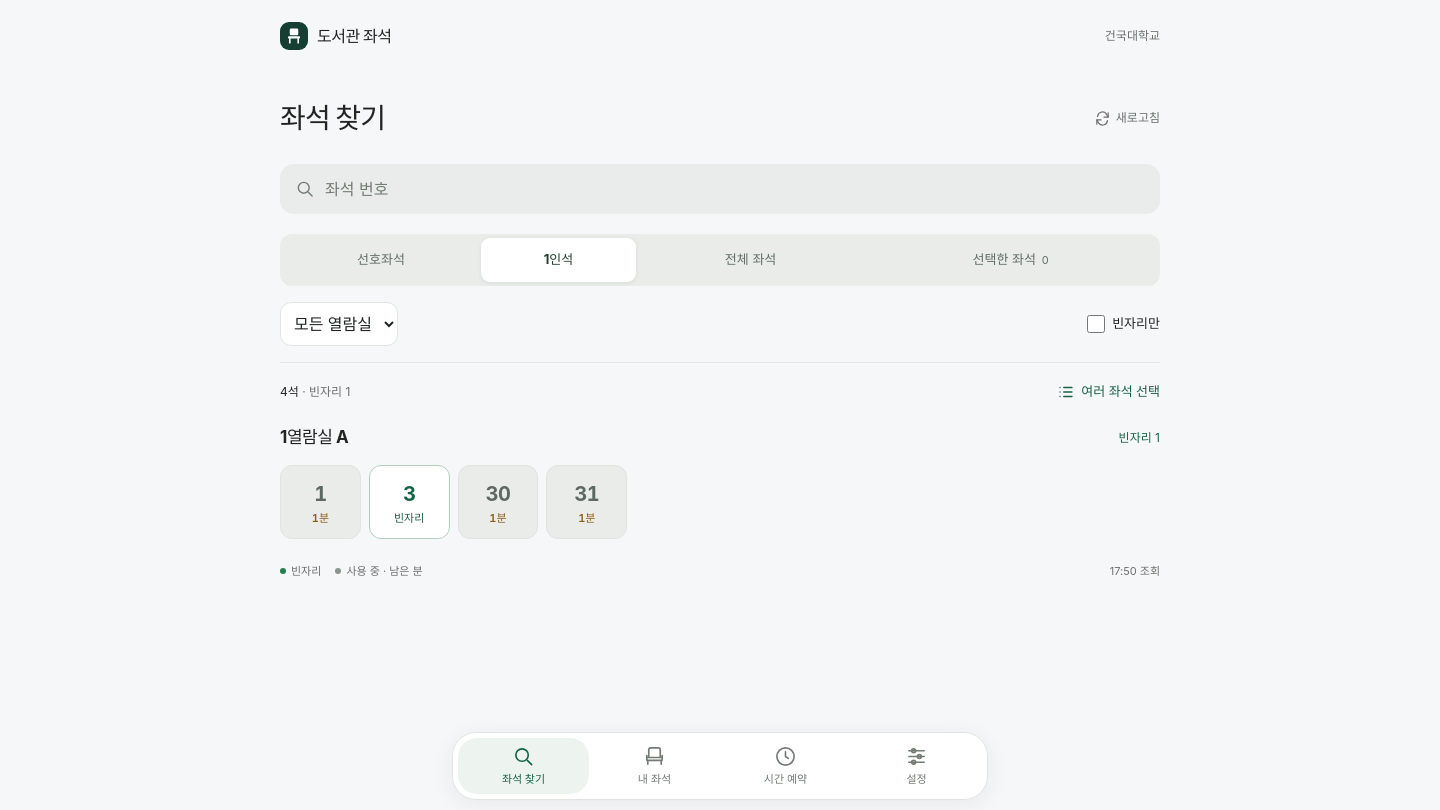
React app with the existing account API › adds seats from details to the multiselection draft without starting a job
expect the heading "좌석 찾기" is shown: met, box 280,100 -> 385,136
Click the button named "1열람실 A 1번 1분 상세 보기".
click(320, 502)  # box 280,464 -> 361,538
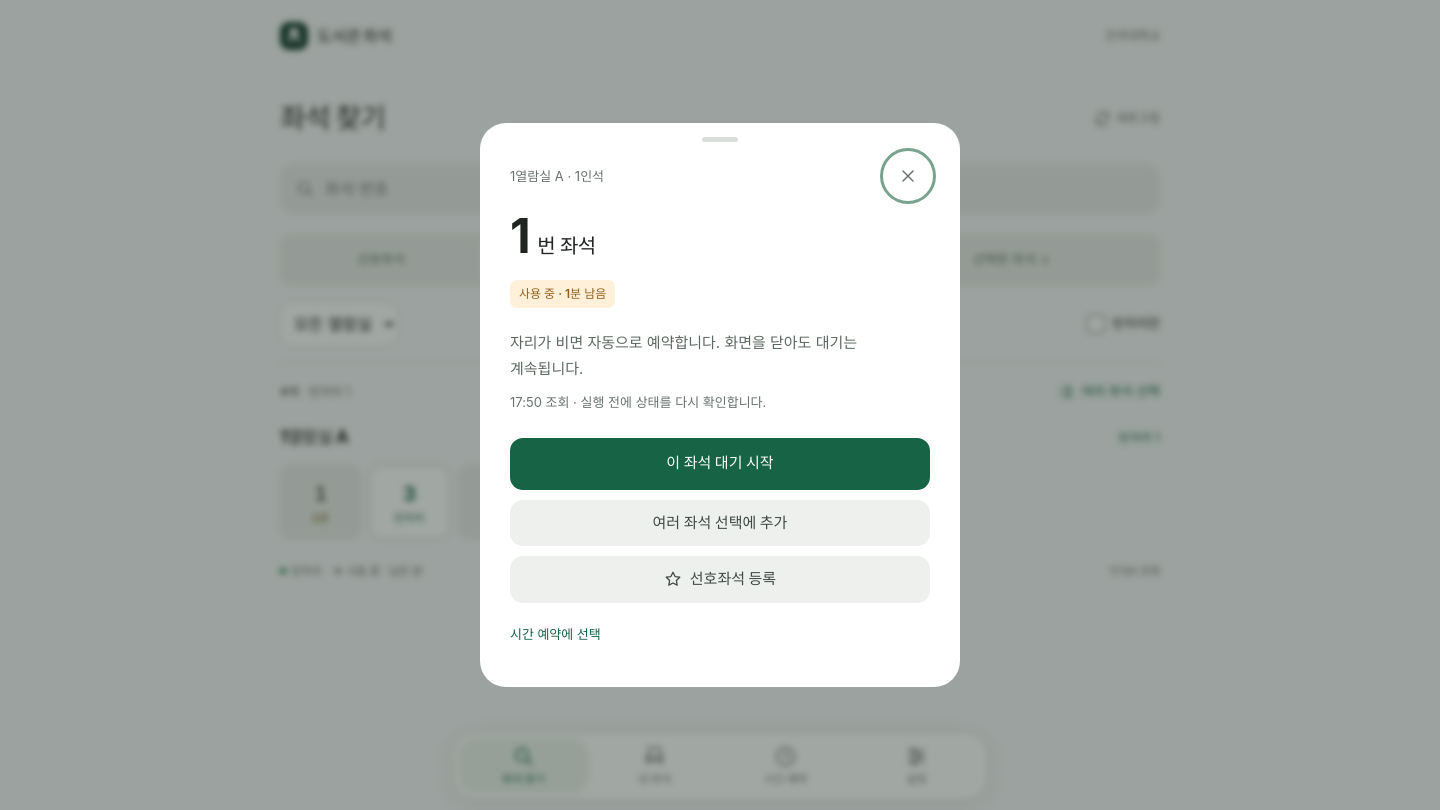
Click the button "여러 좌석 선택에 추가".
click(720, 523)  # box 510,500 -> 930,546
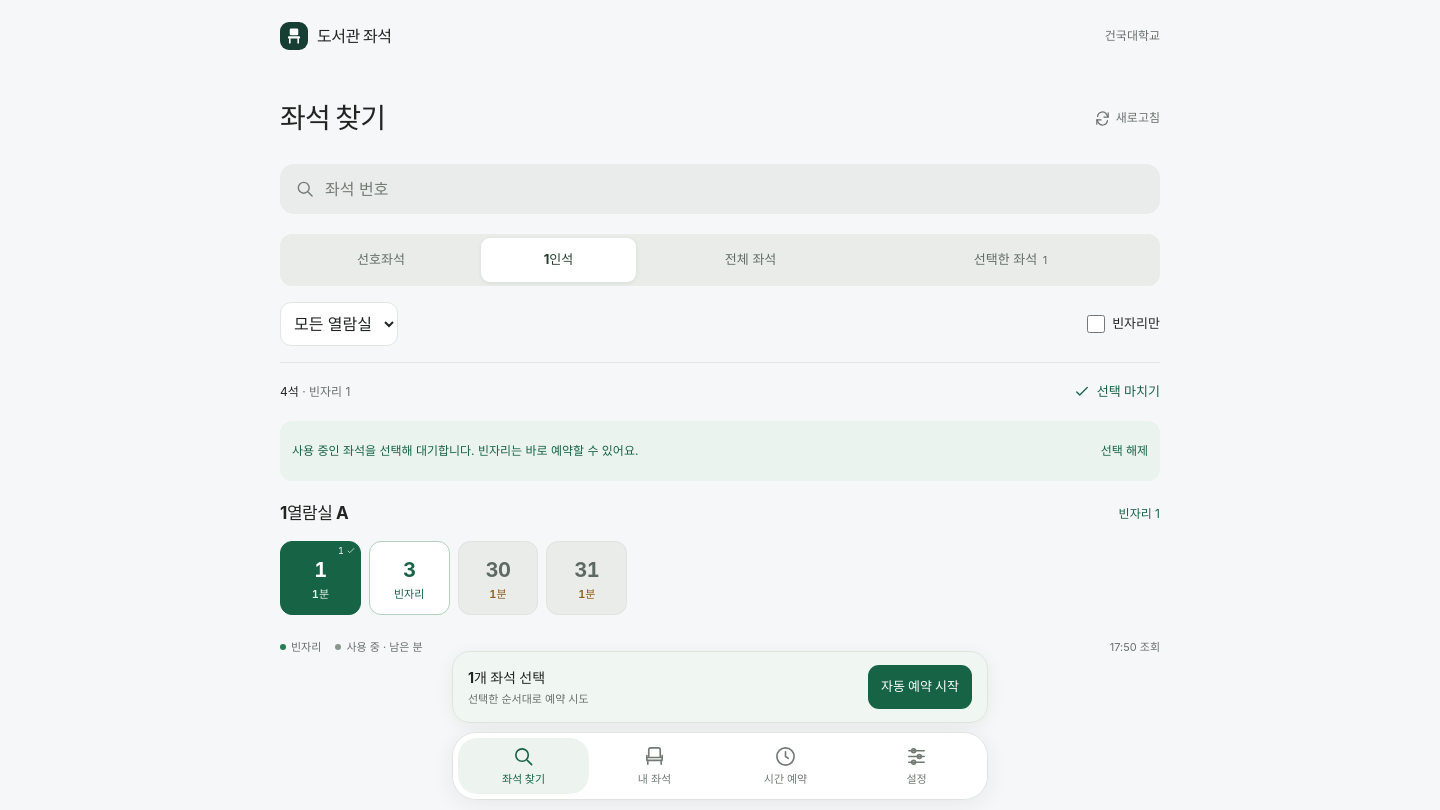
expect the button "선택 마치기" is shown: met, box 1073,370 -> 1160,414
